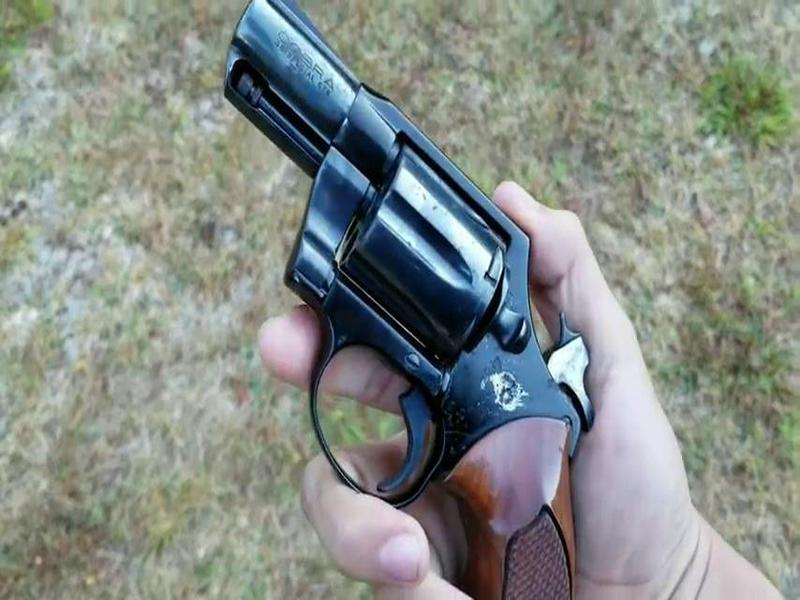Revolver: (187, 1, 603, 584)
